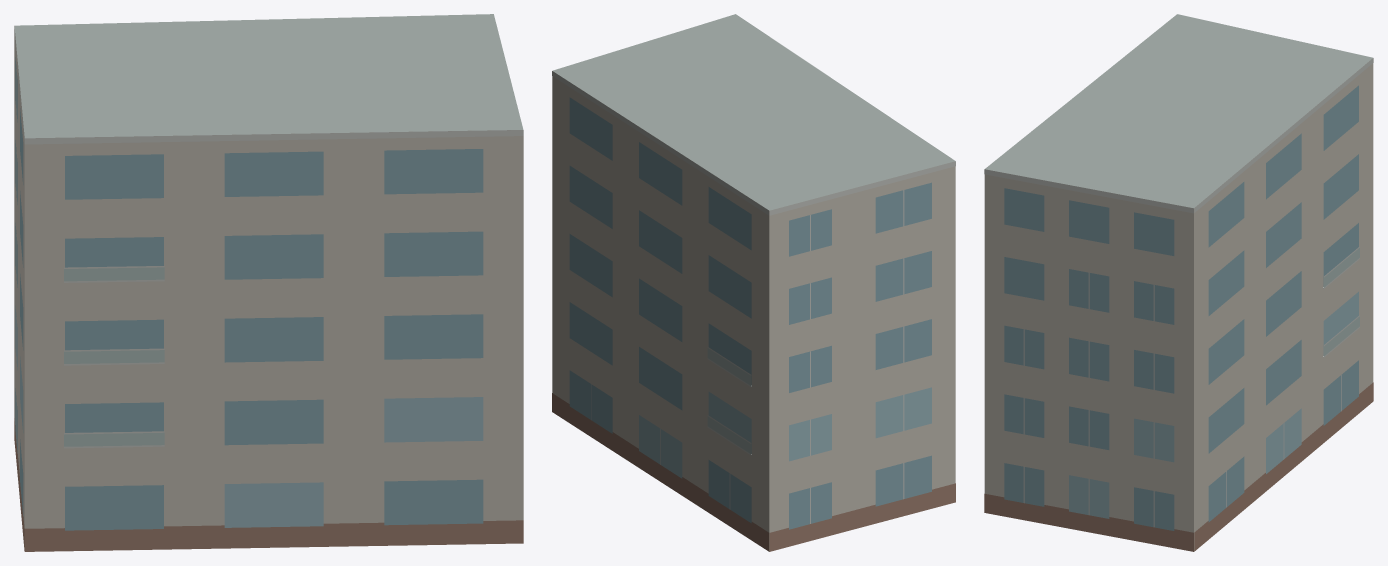
The model's file is survey-upis-32934017.glb.
3 renders of one model, left to right at view 1: azimuth 30°, elevation 25°; view 2: azimuth 150°, elevation 25°; view 3: azimuth 270°, elevation 25°, orthographic. The views are drawn at different scales.
Parts seen in each view (by area): view 1: survey-upis-32934017.tmp; view 2: survey-upis-32934017.tmp; view 3: survey-upis-32934017.tmp.
Part boxes in pixels (x1=…): survey-upis-32934017.tmp: x1=14, y1=14, x2=523, y2=551; survey-upis-32934017.tmp: x1=552, y1=14, x2=955, y2=551; survey-upis-32934017.tmp: x1=984, y1=14, x2=1373, y2=551.
Size of the model in its own units: 19.9 by 16.4 by 16.83.
